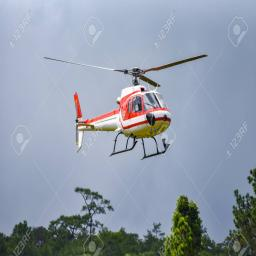helicopter: (46, 56, 206, 162)
